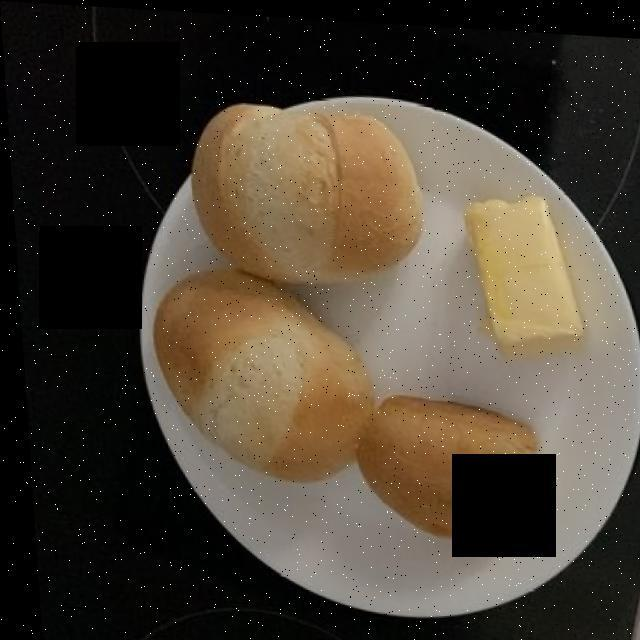bread: (151, 94, 548, 542)
butter: (461, 184, 580, 361)
